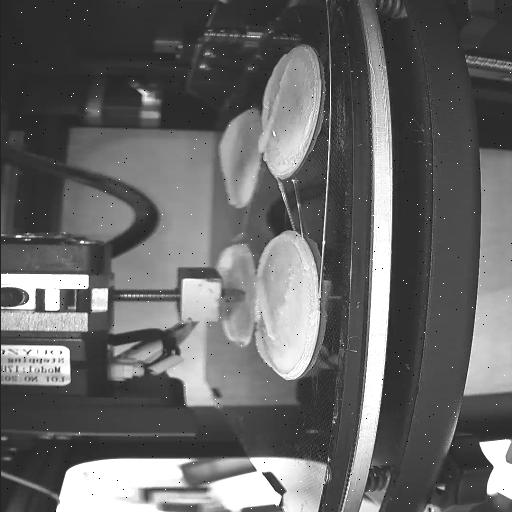over_extrusion: (255, 62, 289, 153), (216, 114, 244, 208), (250, 280, 278, 368), (254, 234, 306, 276), (218, 242, 250, 280), (222, 312, 235, 343)
